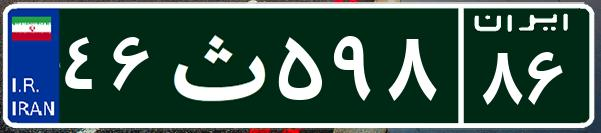4: (57, 26, 110, 107)
5: (273, 28, 330, 110)
6: (110, 28, 158, 105), (525, 38, 570, 115)
8: (385, 28, 445, 110), (475, 38, 525, 113)
9: (330, 28, 385, 110)
ث: (158, 15, 273, 115)
